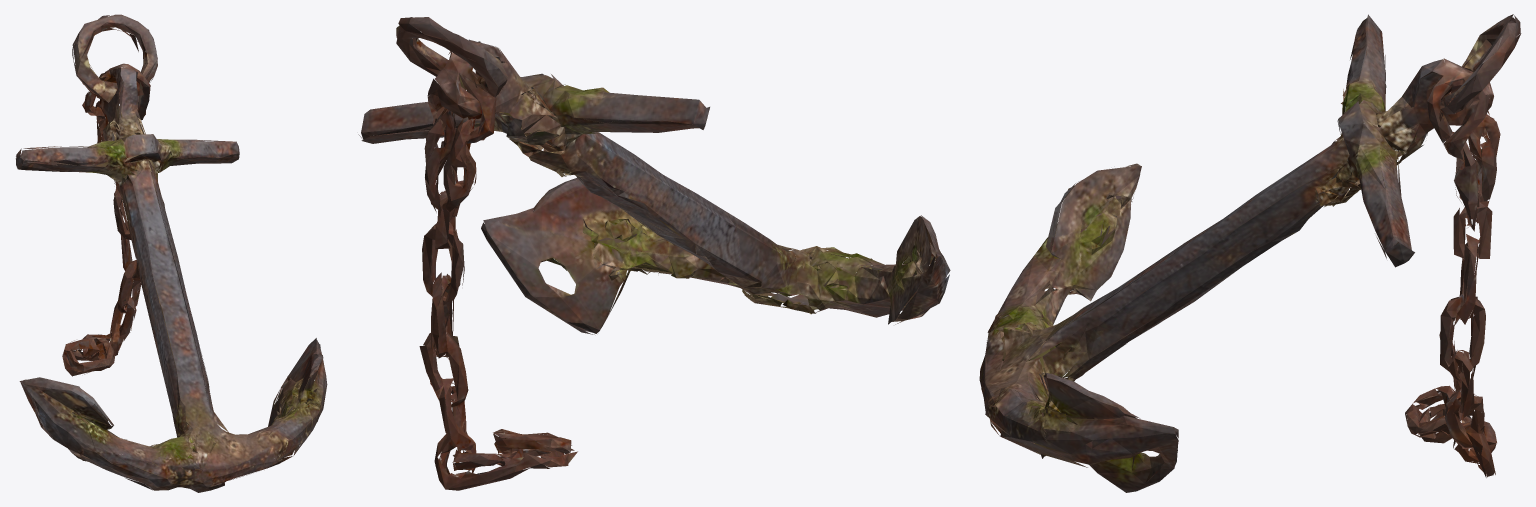
File: anchor.glb
3 views of the same model, side by side, from view 1: azimuth 30°, elevation 25°; view 2: azimuth 150°, elevation 25°; view 3: azimuth 270°, elevation 25° (orthographic). The views are drawn at different scales.
Parts seen in each view (by area): view 1: Lux3D anchor; view 2: Lux3D anchor; view 3: Lux3D anchor.
Boxes of the visible parts, x1,y1,x2,y2 form: Lux3D anchor: (15,14,327,492); Lux3D anchor: (358,17,950,490); Lux3D anchor: (979,14,1521,492).
Bounding box in the file's own units: 0.9685 × 1 × 1.07.
Materials: 1 (1 with a texture image).
